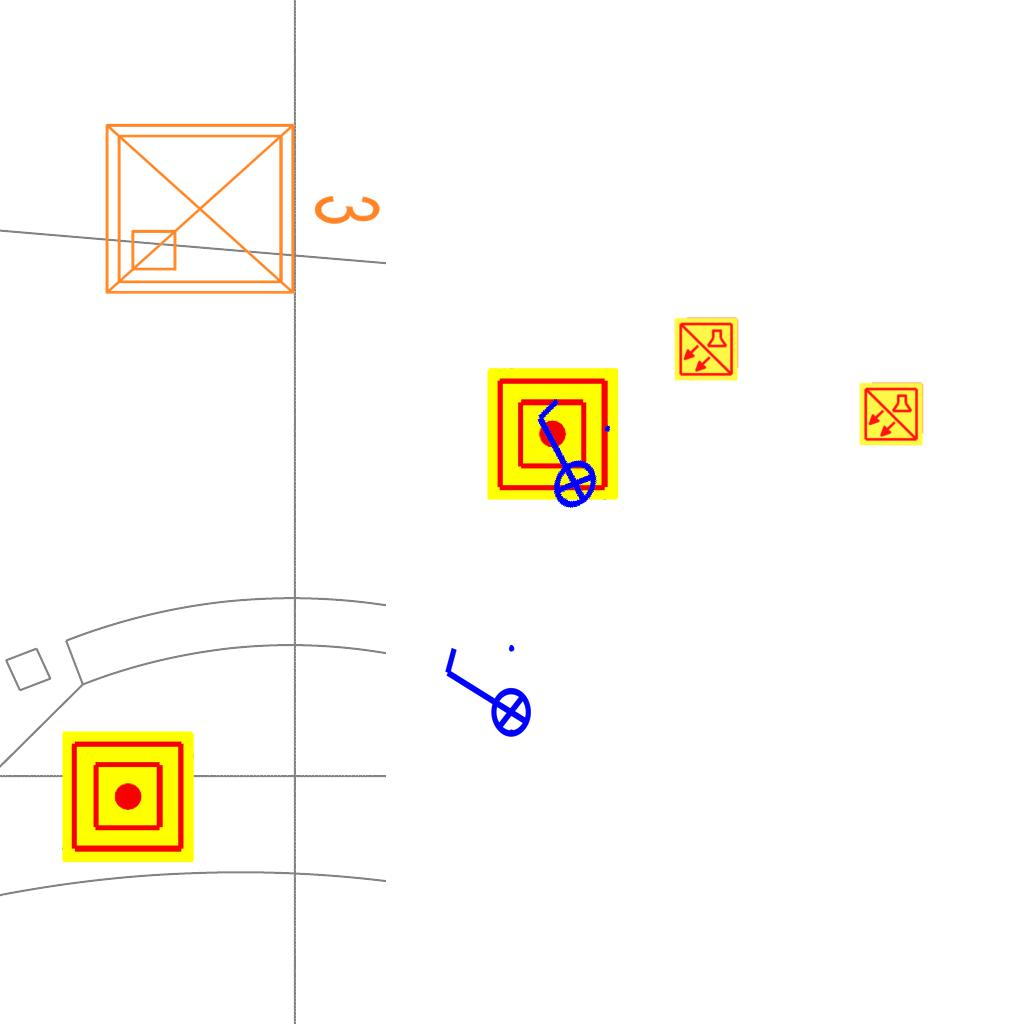Ausschalter_beleuchtet: (491, 383, 631, 529), (437, 639, 533, 751)
Einbaudownlights_LED_Konferenzraeume: (91, 101, 391, 309)
NAM-Nichtautomatischer_Melder: (62, 731, 194, 863), (487, 368, 619, 500)
OKW_Multisensormelder_(Kombination_optischer_Rauch-Kahlenmonoxid_Waerme-Melder): (673, 316, 739, 382), (858, 381, 924, 447)
